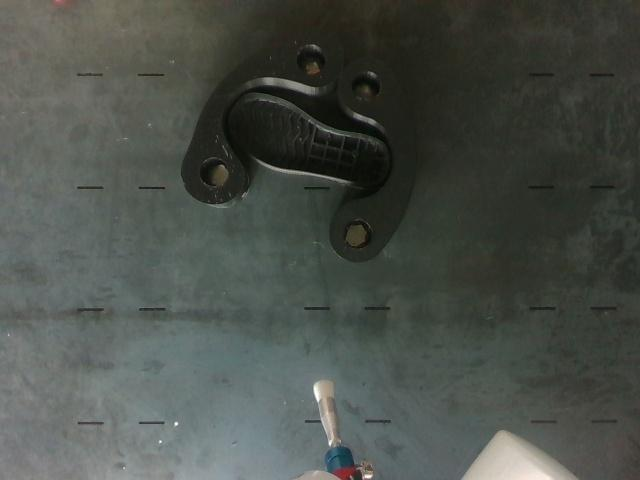shoes: (231, 95, 388, 186)
